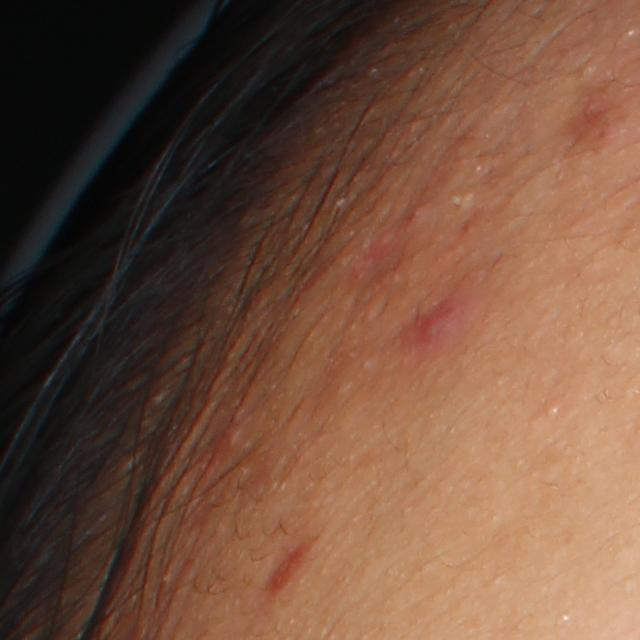comedo: (543, 403, 562, 421)
papule: (410, 303, 467, 351)
